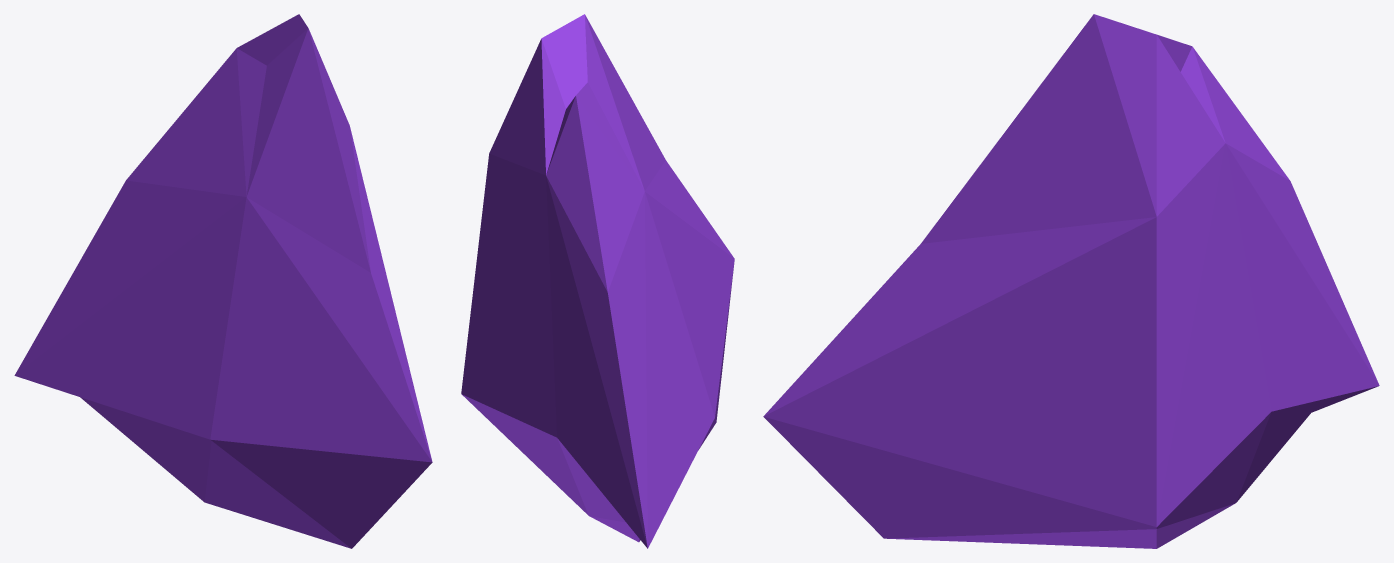
The model's file is SM_Amethyst_Chipped.fbx.
3 views of the same model, side by side, from view 1: azimuth 30°, elevation 25°; view 2: azimuth 150°, elevation 25°; view 3: azimuth 270°, elevation 25° (orthographic). The views are drawn at different scales.
Visible parts, largest first — view 1: SM_Amethyst_Chipped; view 2: SM_Amethyst_Chipped; view 3: SM_Amethyst_Chipped.
Part boxes in pixels (x1,y1,x2,y2): SM_Amethyst_Chipped: (14, 14, 432, 548); SM_Amethyst_Chipped: (461, 14, 734, 548); SM_Amethyst_Chipped: (763, 14, 1379, 548).
Size of the model in its own units: 10.05 by 16.09 by 16.76.
